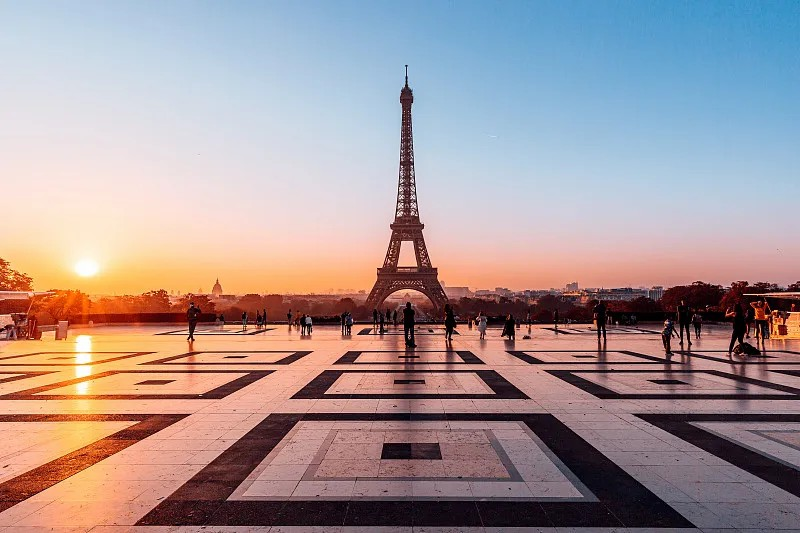Eiffel: (363, 65, 451, 317)
